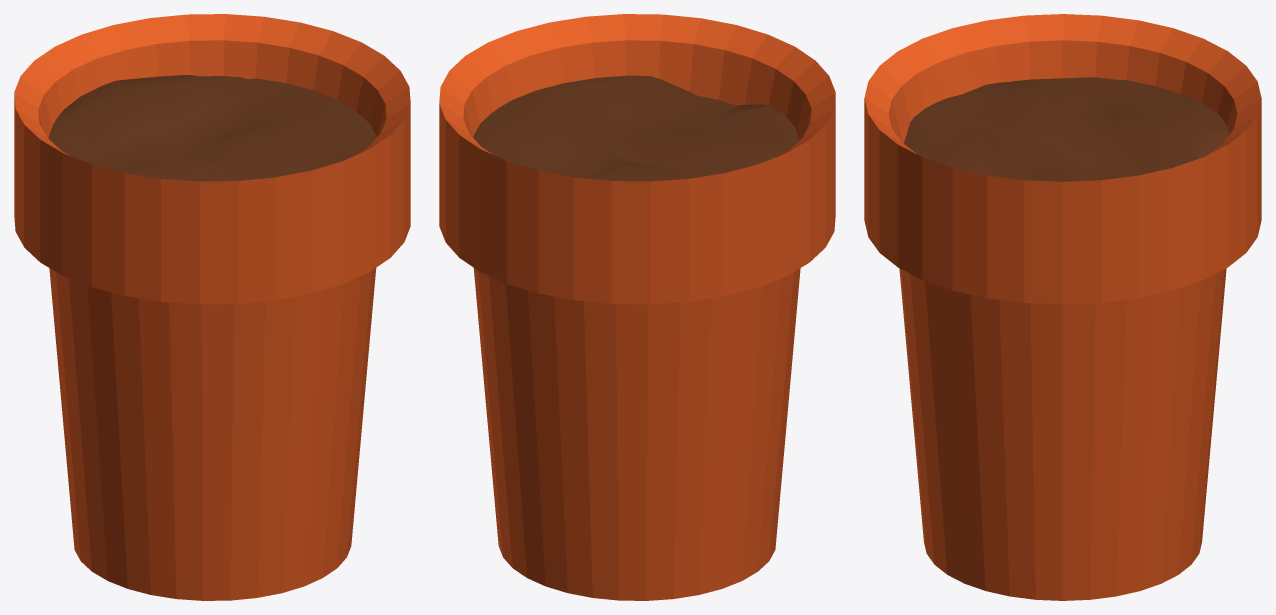
File: plant_pot_tall.fbx
The picture shows the model from 3 angles, left to right: view 1: azimuth 30°, elevation 25°; view 2: azimuth 150°, elevation 25°; view 3: azimuth 270°, elevation 25°; orthographic projection.
Visible parts, largest first — view 1: Cylinder.007, Cube.008; view 2: Cylinder.007, Cube.008; view 3: Cylinder.007, Cube.008.
Boxes of the visible parts, bbox=[...] form: Cylinder.007: bbox=[14, 14, 410, 600]; Cube.008: bbox=[48, 75, 376, 181]; Cylinder.007: bbox=[439, 14, 835, 600]; Cube.008: bbox=[473, 75, 799, 181]; Cylinder.007: bbox=[864, 14, 1261, 600]; Cube.008: bbox=[904, 77, 1228, 181].
Size of the model in its own units: 276 by 341 by 276.
